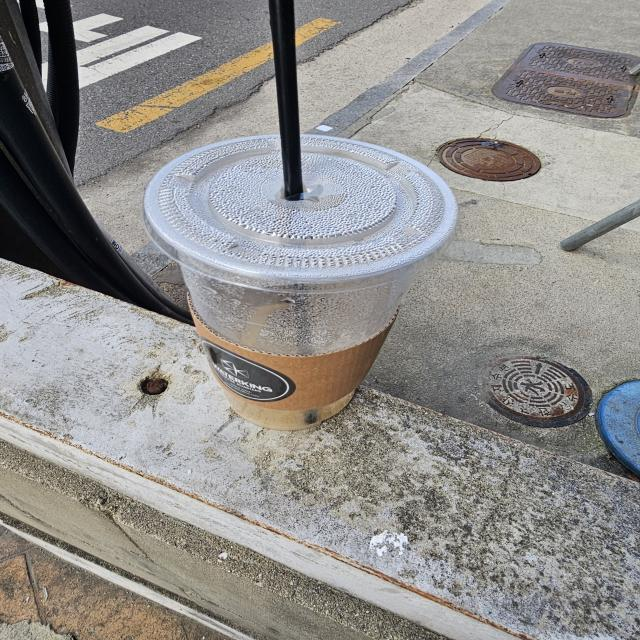cup: (140, 126, 464, 435)
